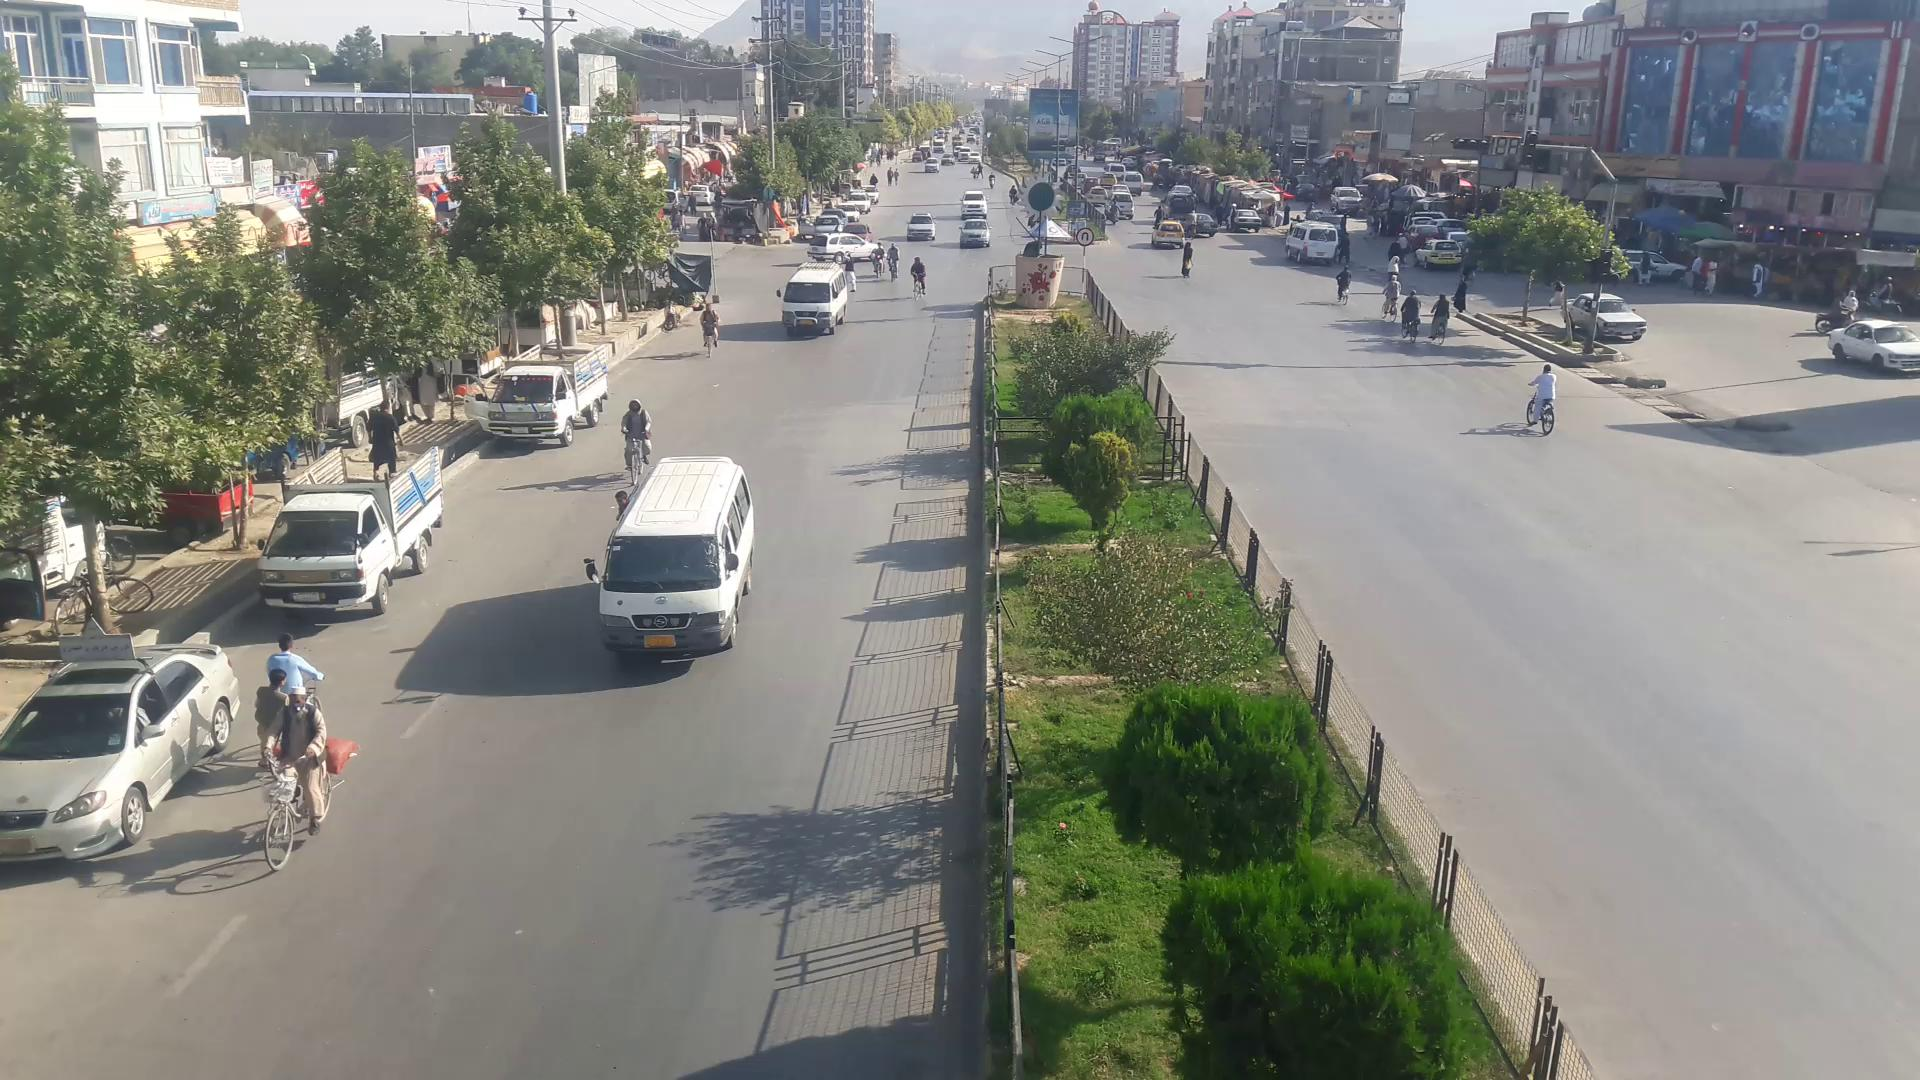bus: (607, 463, 757, 646), (467, 352, 597, 440), (777, 265, 851, 334)
car: (0, 630, 227, 857), (1825, 320, 1917, 376), (903, 214, 936, 241)
truck: (255, 448, 451, 615)
